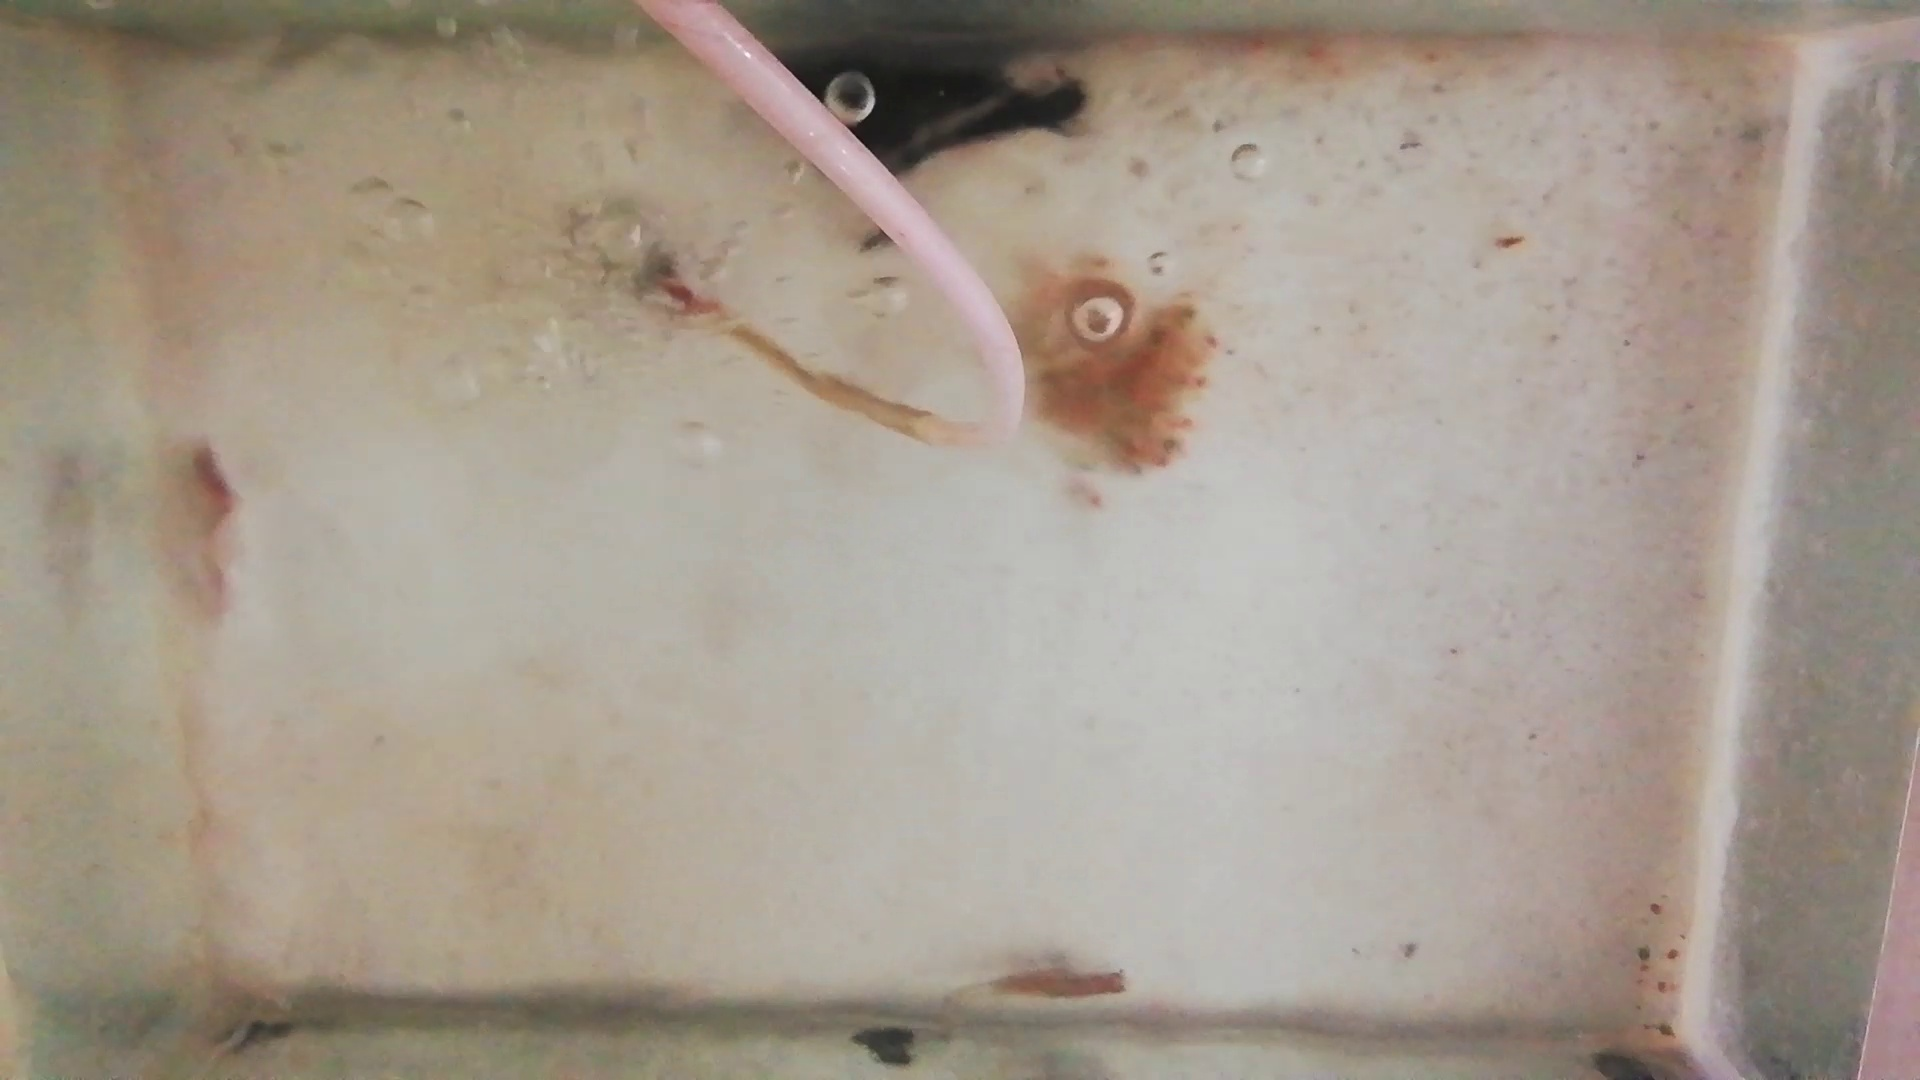fish: (181, 429, 237, 618), (981, 967, 1137, 1000)
